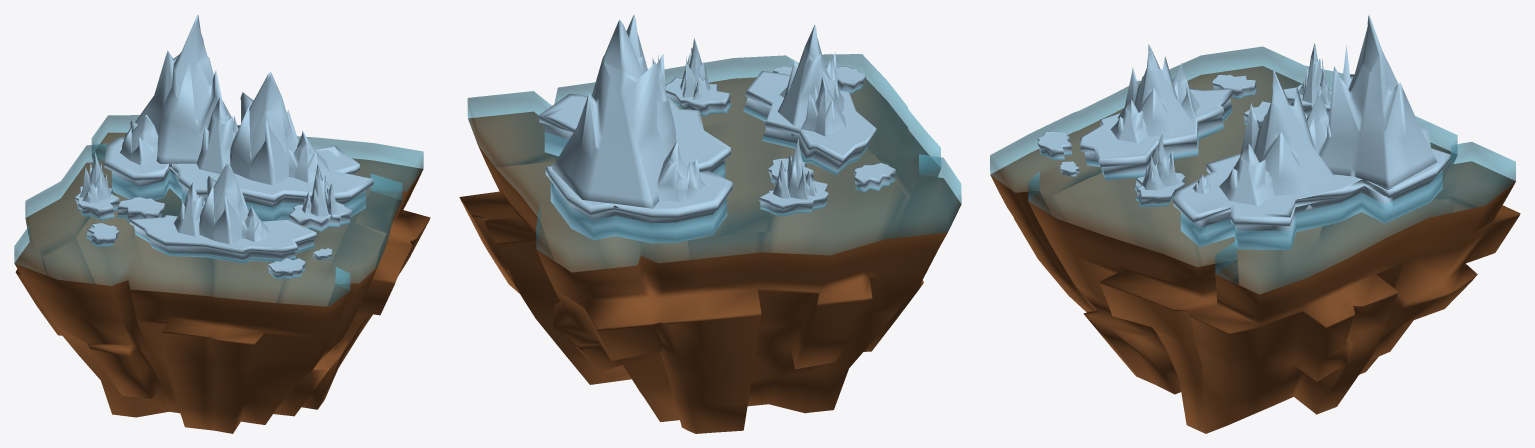
The model's file is Glacier.glb.
3 views of the same model, side by side, from view 1: azimuth 30°, elevation 25°; view 2: azimuth 150°, elevation 25°; view 3: azimuth 270°, elevation 25° (orthographic). The views are drawn at different scales.
Parts seen in each view (by area): view 1: Cube.079, Cube.082, Cube.081, Cube.080, Cube.089, Cube.049, Cube.048, Cube.045, Cube.046, Cube.040, Cube.050, Cube.047; view 2: Cube.079, Cube.082, Cube.081, Cube.080, Cube.089, Cube.045, Cube.040, Cube.048, Cube.049, Cube.047, Cube.050; view 3: Cube.079, Cube.082, Cube.081, Cube.080, Cube.089, Cube.049, Cube.045, Cube.048, Cube.050, Cube.047.
Part boxes in pixels (bbox=[...]): Cube.079: bbox=[14, 115, 430, 433]; Cube.082: bbox=[120, 14, 329, 189]; Cube.081: bbox=[104, 125, 373, 221]; Cube.080: bbox=[129, 215, 317, 263]; Cube.089: bbox=[174, 161, 269, 253]; Cube.049: bbox=[302, 163, 338, 220]; Cube.048: bbox=[289, 201, 351, 231]; Cube.045: bbox=[79, 151, 111, 202]; Cube.046: bbox=[117, 197, 165, 222]; Cube.040: bbox=[74, 186, 119, 220]; Cube.050: bbox=[267, 258, 305, 278]; Cube.047: bbox=[86, 222, 119, 247]; Cube.079: bbox=[459, 54, 961, 433]; Cube.082: bbox=[551, 14, 704, 208]; Cube.081: bbox=[539, 94, 732, 243]; Cube.080: bbox=[743, 71, 876, 174]; Cube.089: bbox=[777, 24, 845, 136]; Cube.045: bbox=[773, 139, 816, 199]; Cube.040: bbox=[759, 180, 828, 216]; Cube.048: bbox=[665, 77, 731, 115]; Cube.049: bbox=[680, 38, 711, 99]; Cube.047: bbox=[854, 162, 895, 192]; Cube.050: bbox=[836, 66, 866, 93]; Cube.079: bbox=[990, 46, 1520, 433]; Cube.082: bbox=[1193, 14, 1437, 211]; Cube.081: bbox=[1173, 124, 1450, 249]; Cube.080: bbox=[1079, 88, 1233, 180]; Cube.089: bbox=[1110, 44, 1199, 143]; Cube.049: bbox=[1141, 131, 1179, 190]; Cube.045: bbox=[1299, 43, 1330, 109]; Cube.048: bbox=[1135, 172, 1184, 207]; Cube.050: bbox=[1037, 131, 1072, 159]; Cube.047: bbox=[1212, 74, 1256, 98].
Size of the model in its own units: 6.63 by 5.44 by 6.63.
